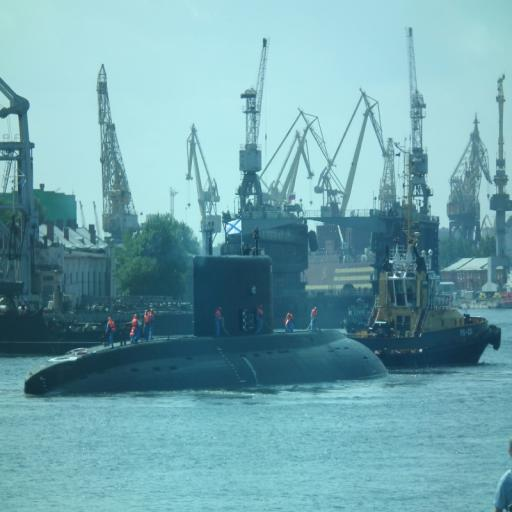submarine: (26, 250, 391, 399)
